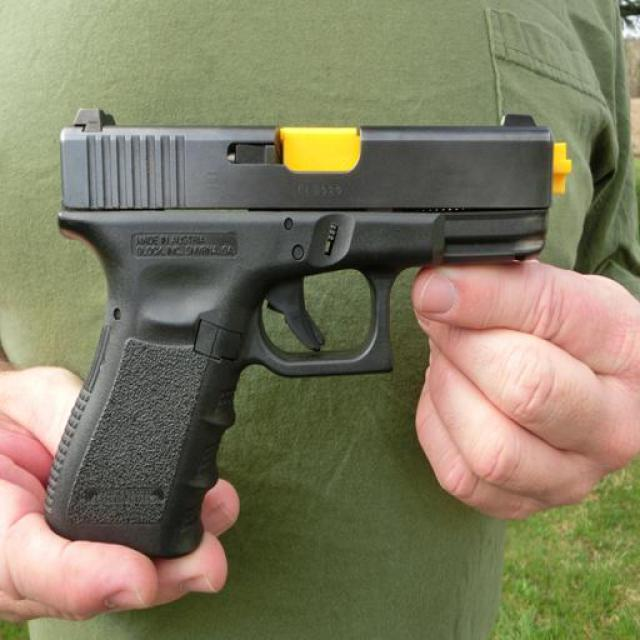pistol: (38, 109, 573, 549)
